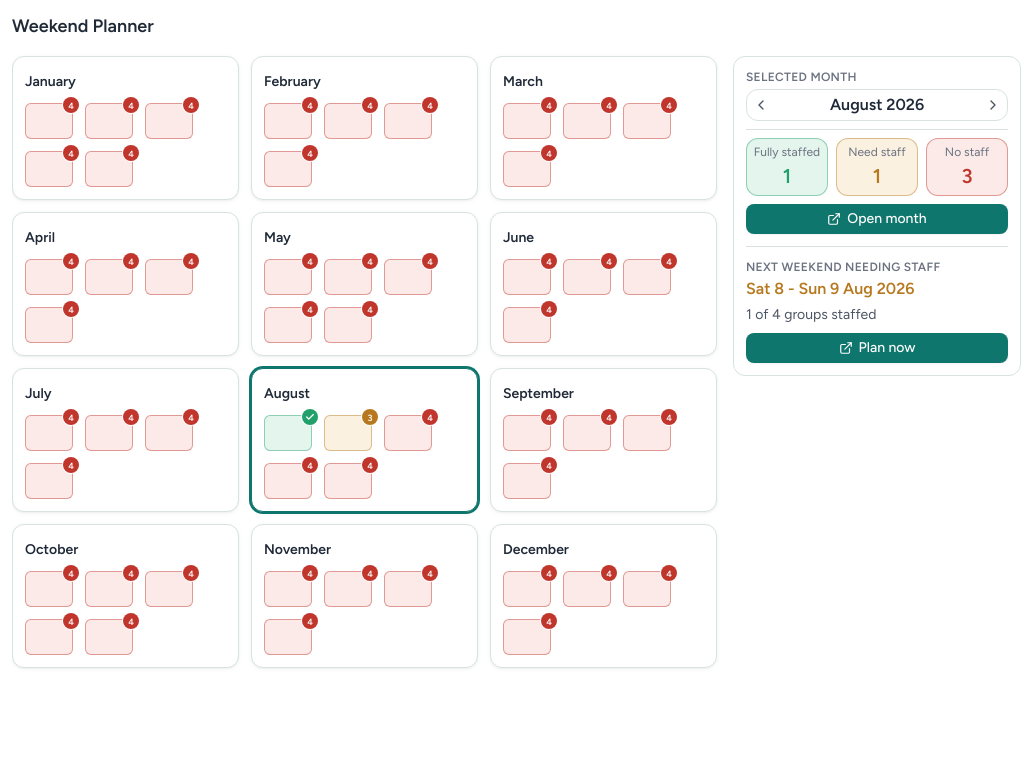
Test: WeekendYearOverview › clicking an unselected month selects it (updating the inspector) without opening it
What coordinates should you click on to do the following:
click the button "January 4 4 4 4 4"
I would click on:
 (126, 128)
Its box is [12,56,239,200].
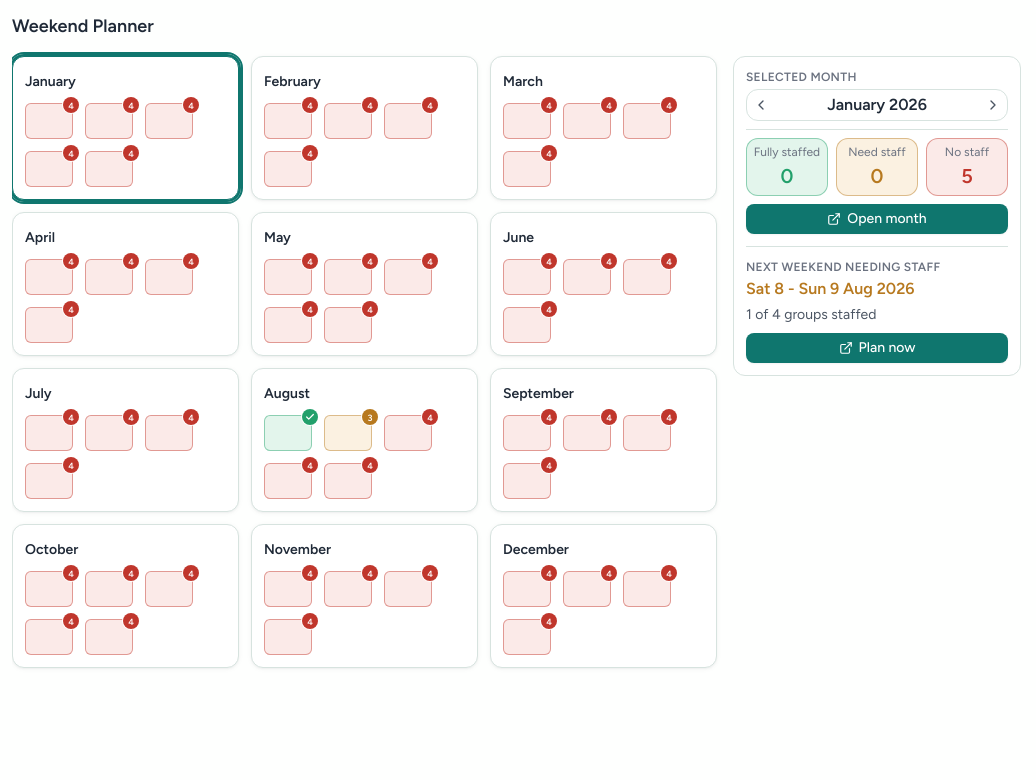
Check: the button "January 2026" is shown, box [775,93,979,117]
